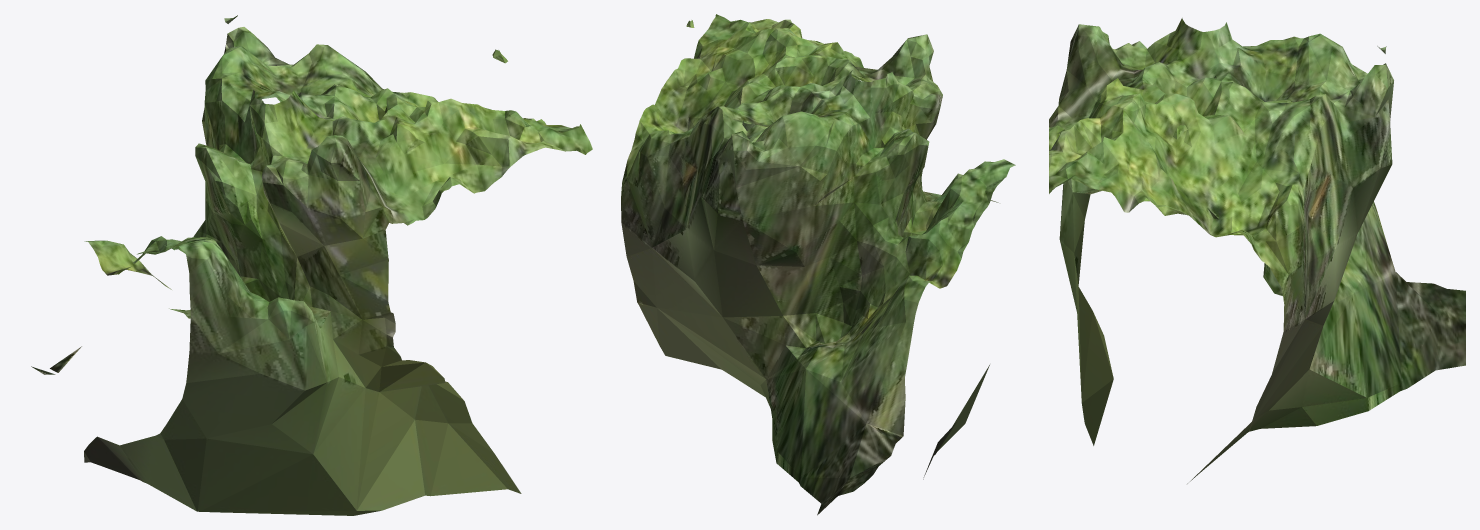
The picture shows the model from 3 angles, left to right: view 1: azimuth 30°, elevation 25°; view 2: azimuth 150°, elevation 25°; view 3: azimuth 270°, elevation 25°; orthographic projection. The views are drawn at different scales.
Size of the model in its own units: 2.95 by 2.95 by 2.95.
Materials: 6 (6 with a texture image).
